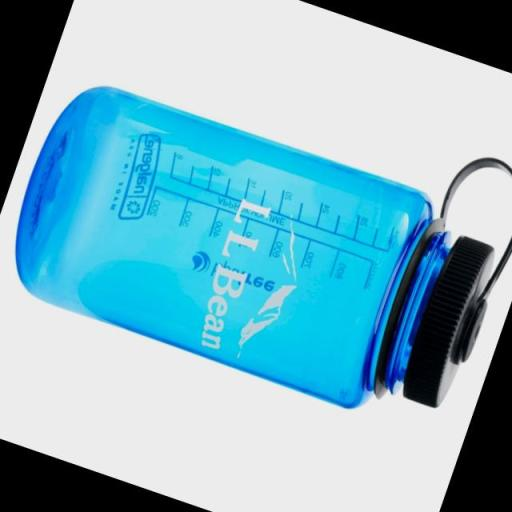bottle: (0, 7, 512, 460)
